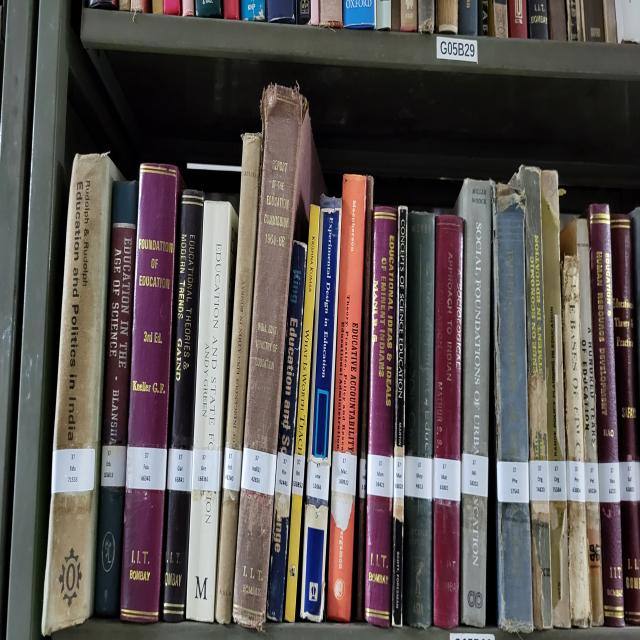Book: (232, 84, 324, 630), (41, 154, 120, 636), (120, 162, 182, 622), (514, 168, 569, 628), (215, 133, 261, 625), (186, 200, 239, 622), (95, 181, 138, 617), (492, 184, 534, 630), (161, 189, 204, 622), (326, 173, 366, 622), (560, 219, 604, 625), (300, 198, 341, 622), (456, 179, 491, 628), (285, 206, 320, 622), (285, 206, 320, 622), (268, 241, 306, 622), (268, 241, 306, 622), (365, 206, 398, 628), (432, 214, 464, 628), (404, 211, 435, 628), (561, 254, 591, 628), (352, 176, 374, 622), (391, 206, 408, 625)
Label: (51, 449, 95, 492), (126, 446, 168, 490), (241, 446, 276, 495), (599, 463, 640, 503), (496, 460, 529, 503), (191, 449, 221, 492), (404, 455, 432, 501), (461, 452, 489, 498), (432, 457, 461, 501), (368, 455, 394, 498), (331, 452, 356, 495), (168, 449, 192, 492), (101, 446, 126, 487), (306, 460, 330, 501), (222, 446, 242, 492), (529, 460, 549, 501), (566, 460, 585, 503), (275, 452, 292, 495), (549, 460, 566, 501), (585, 463, 600, 503), (292, 455, 305, 495), (394, 455, 405, 498), (359, 457, 366, 498)
